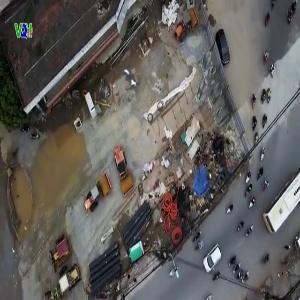drone: (100, 46, 162, 108)
